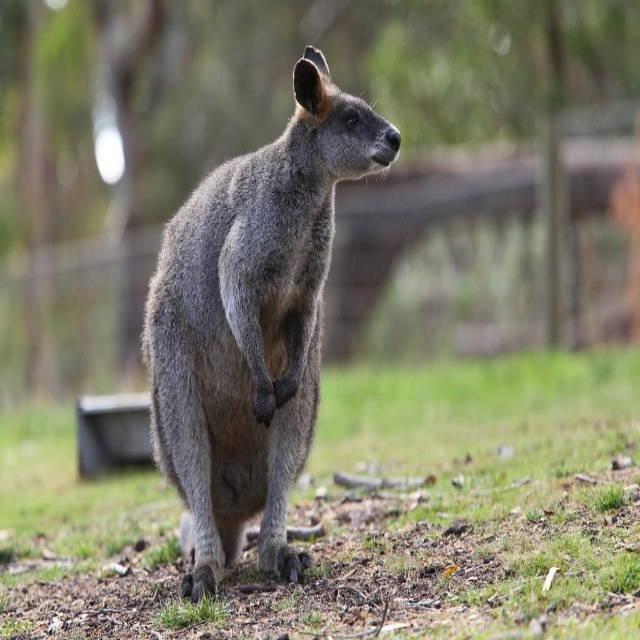Kangaroo: (141, 42, 404, 602)
